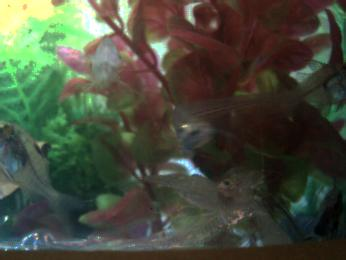X-ray fish: (1, 120, 86, 227), (284, 61, 346, 117)
glassfish: (171, 94, 306, 149)
siberian prawn: (142, 166, 265, 223), (84, 34, 127, 92)
